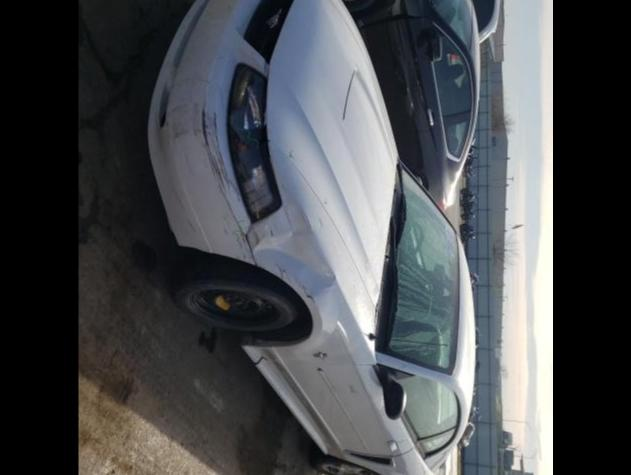Broken part: (245, 345, 336, 453)
Corrosion: (216, 297, 229, 308)
Dent: (254, 182, 336, 300)
Paint chip: (304, 295, 314, 305), (266, 139, 271, 141)
Scratch: (201, 103, 238, 200), (171, 77, 224, 106), (165, 102, 202, 141), (234, 224, 254, 264), (219, 187, 237, 220), (200, 145, 215, 176), (171, 182, 186, 212), (303, 209, 315, 237), (284, 202, 294, 231), (185, 153, 193, 175), (316, 211, 324, 230), (288, 148, 298, 161), (223, 214, 234, 225), (176, 77, 189, 86), (189, 74, 193, 102), (277, 265, 286, 277), (349, 384, 358, 393), (197, 78, 209, 84), (318, 217, 323, 231), (188, 220, 195, 229), (280, 185, 290, 191), (221, 226, 229, 233), (323, 198, 328, 206), (236, 219, 246, 223), (226, 4, 231, 11), (269, 229, 272, 236), (228, 4, 232, 9), (246, 4, 250, 8), (205, 161, 207, 168)
